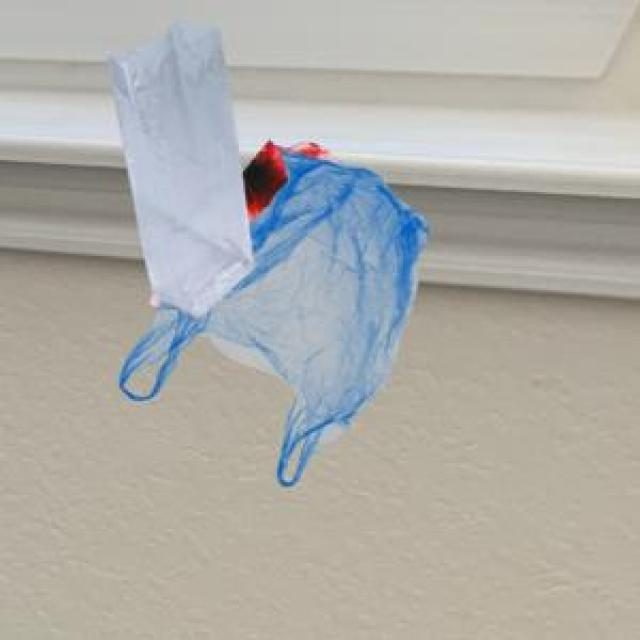plastic: (85, 18, 481, 510)
